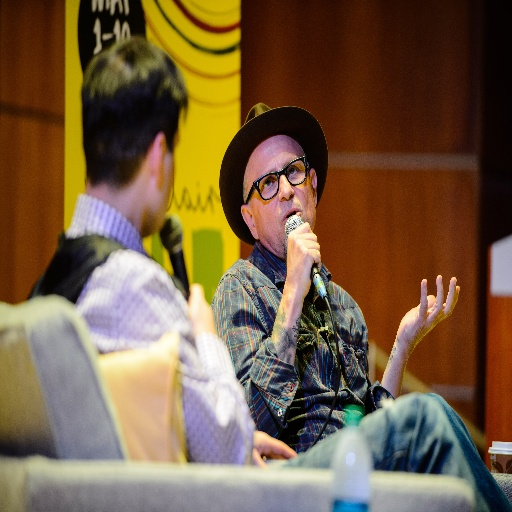hand: (398, 275, 462, 344), (286, 219, 322, 303), (251, 428, 298, 466), (187, 283, 217, 332)
